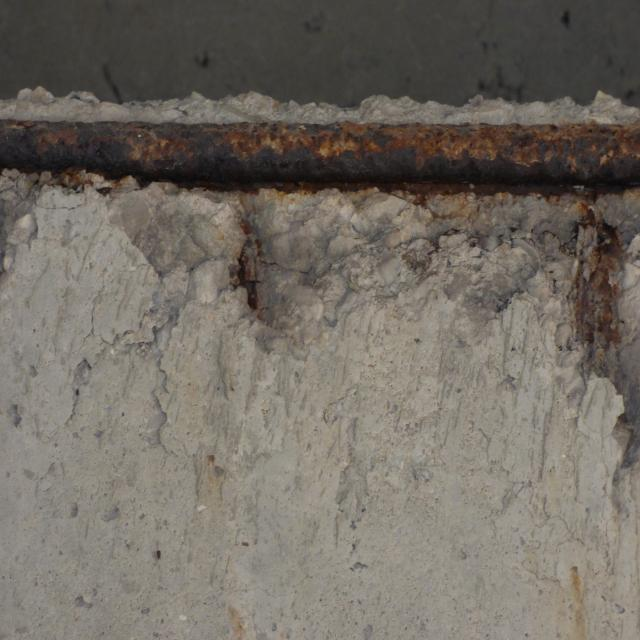corrosion: (0, 100, 640, 201), (542, 206, 640, 376), (215, 204, 285, 336)
